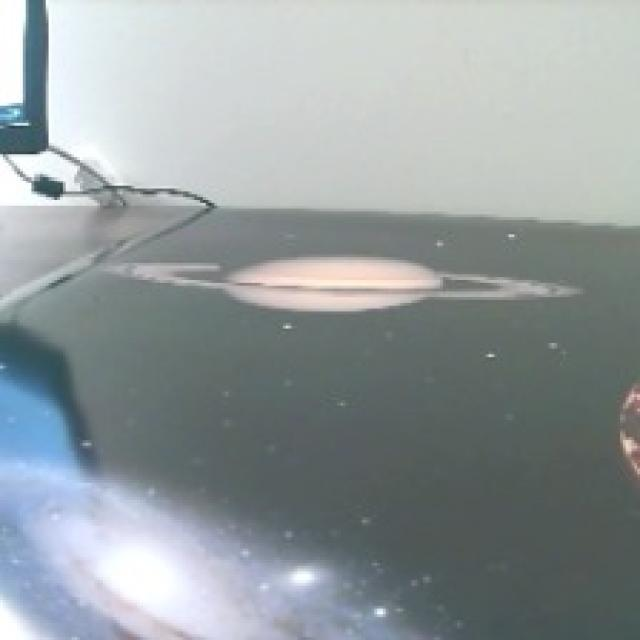Galaxy: (0, 457, 418, 640)
Saturn: (102, 257, 586, 313)
